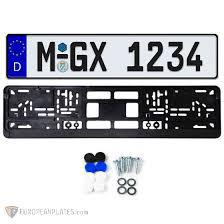1: (126, 40, 145, 74)
2: (146, 40, 165, 73)
3: (166, 41, 185, 72)
4: (186, 41, 204, 73)
G: (70, 40, 89, 73)
M: (36, 39, 56, 74)
X: (90, 39, 108, 74)
